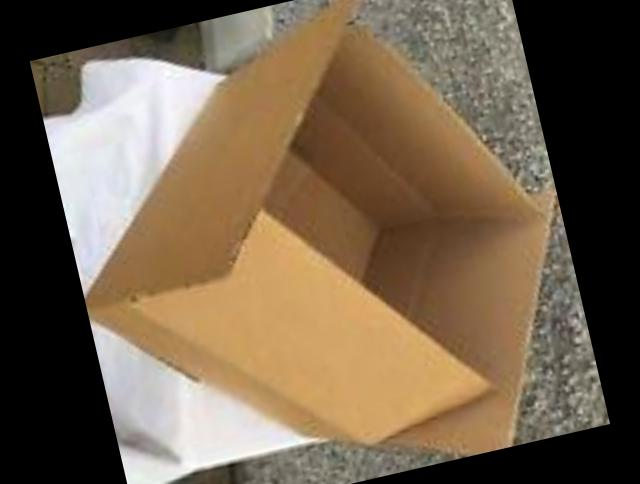cardboard paper: (87, 0, 547, 453)
